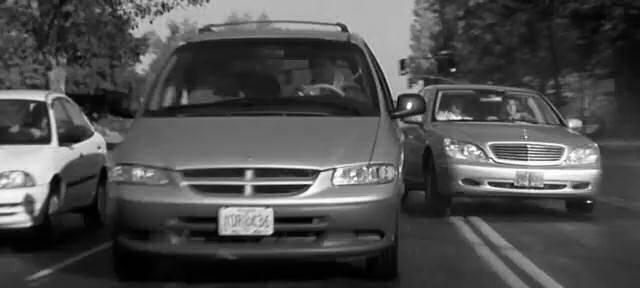car: (103, 11, 439, 288)
